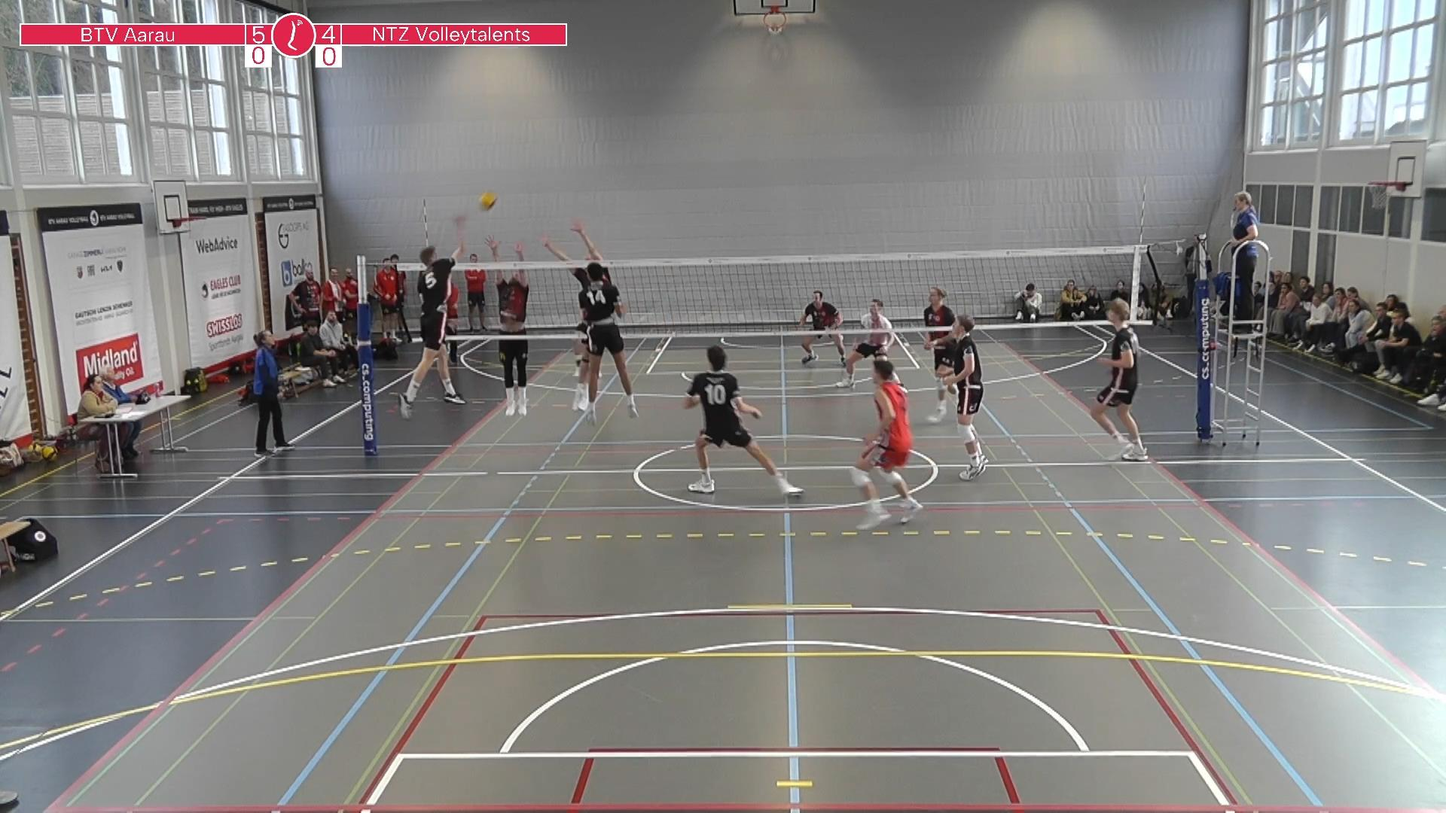Attack: (385, 211, 473, 415)
Block: (544, 205, 613, 413), (486, 230, 542, 418)
Player: (685, 346, 802, 495), (850, 358, 922, 529), (578, 263, 638, 423), (1091, 300, 1148, 461), (943, 315, 987, 480), (836, 299, 895, 388), (923, 287, 955, 423), (798, 290, 844, 365)
ball: (476, 191, 498, 210)
